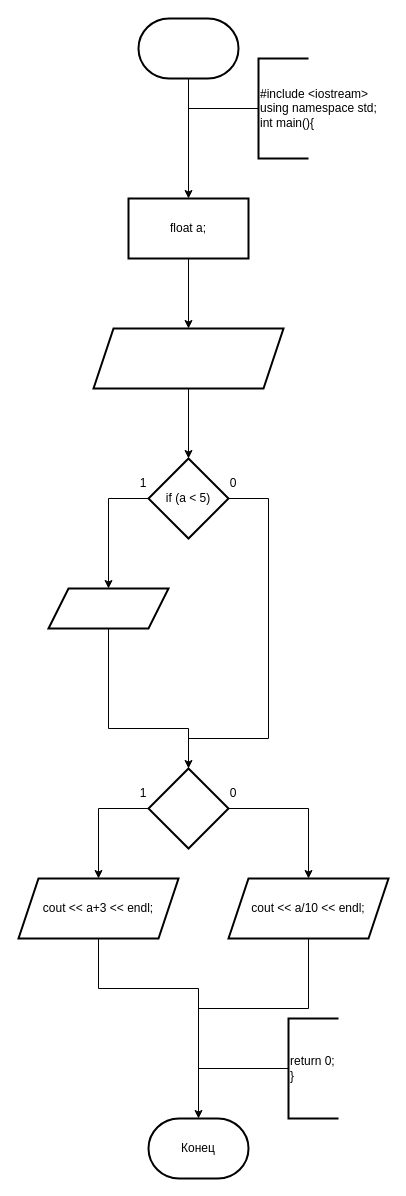
Some shapes in this 406 by 1196 pixel diagram are drawn without their labels. Here are the shapes that lost their labels. From the top down, the centre of each, then its label:
At (188,48): "Начало".
At (188,358): "cin >> a;".
At (108,608): "cout << endl;".
At (188,808): "if (a > 7)".
